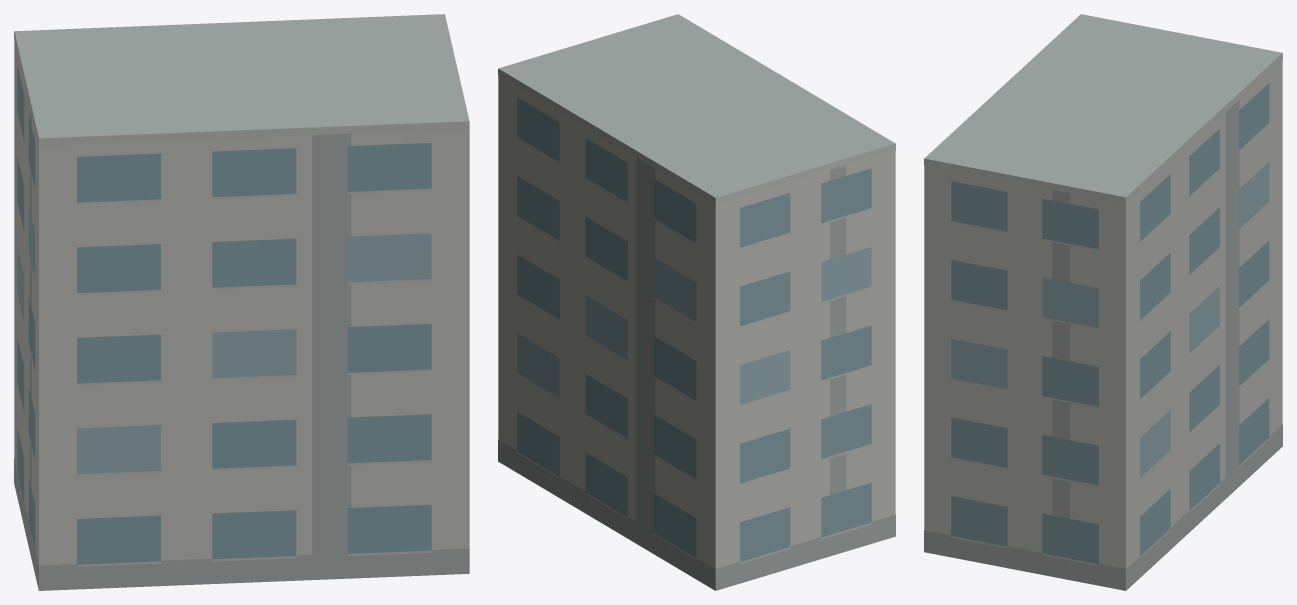
File: survey-upis-32551531.glb
3 renders of one model, left to right at view 1: azimuth 30°, elevation 25°; view 2: azimuth 150°, elevation 25°; view 3: azimuth 270°, elevation 25°, orthographic. The views are drawn at different scales.
Parts seen in each view (by area): view 1: survey-upis-32551531.tmp; view 2: survey-upis-32551531.tmp; view 3: survey-upis-32551531.tmp.
Boxes of the visible parts, <box> form: survey-upis-32551531.tmp: <box>14,14,469,590</box>; survey-upis-32551531.tmp: <box>498,14,895,590</box>; survey-upis-32551531.tmp: <box>924,14,1282,590</box>.
Bounding box in the file's own units: 14.24 × 14.25 × 11.78.
